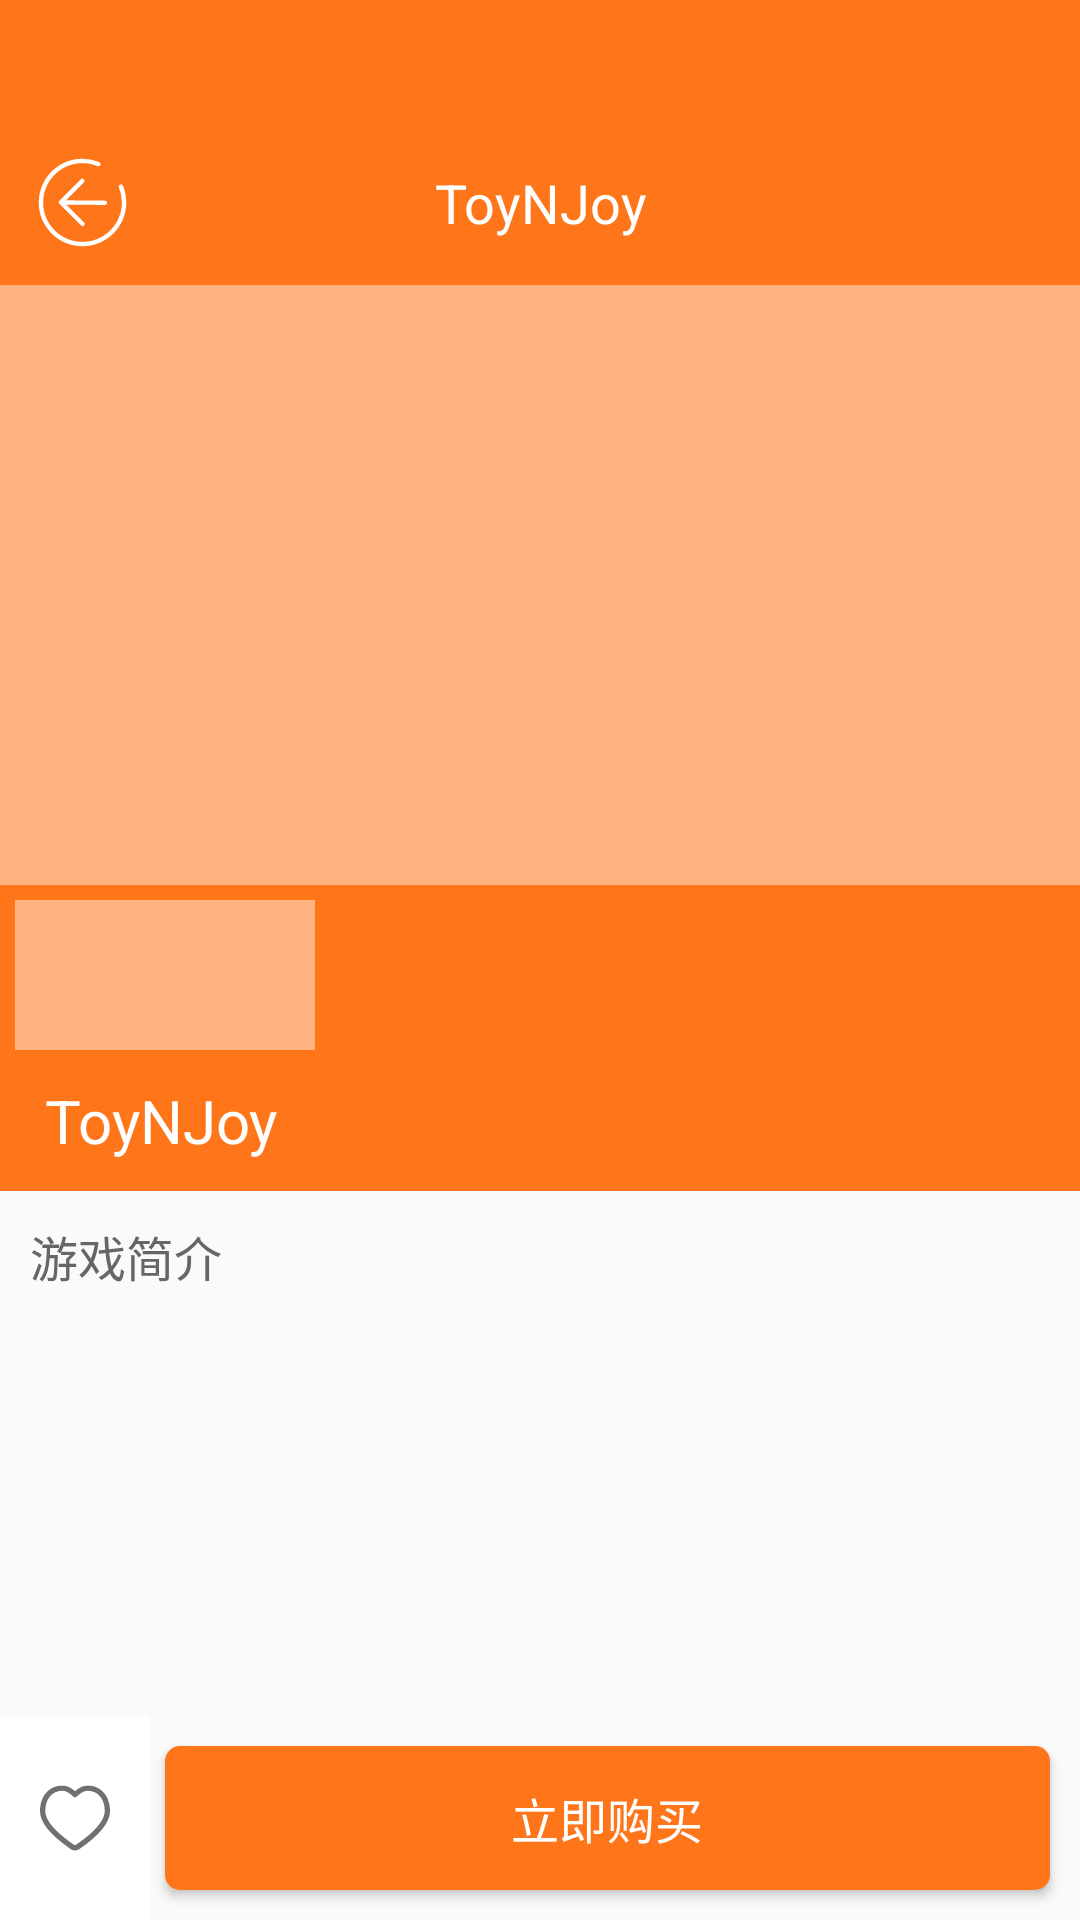

Screen size 1080 × 1920. Icon name, then its center in pixels as point (x, y):
lastpage: point (82, 202)
xin: point (75, 1818)
